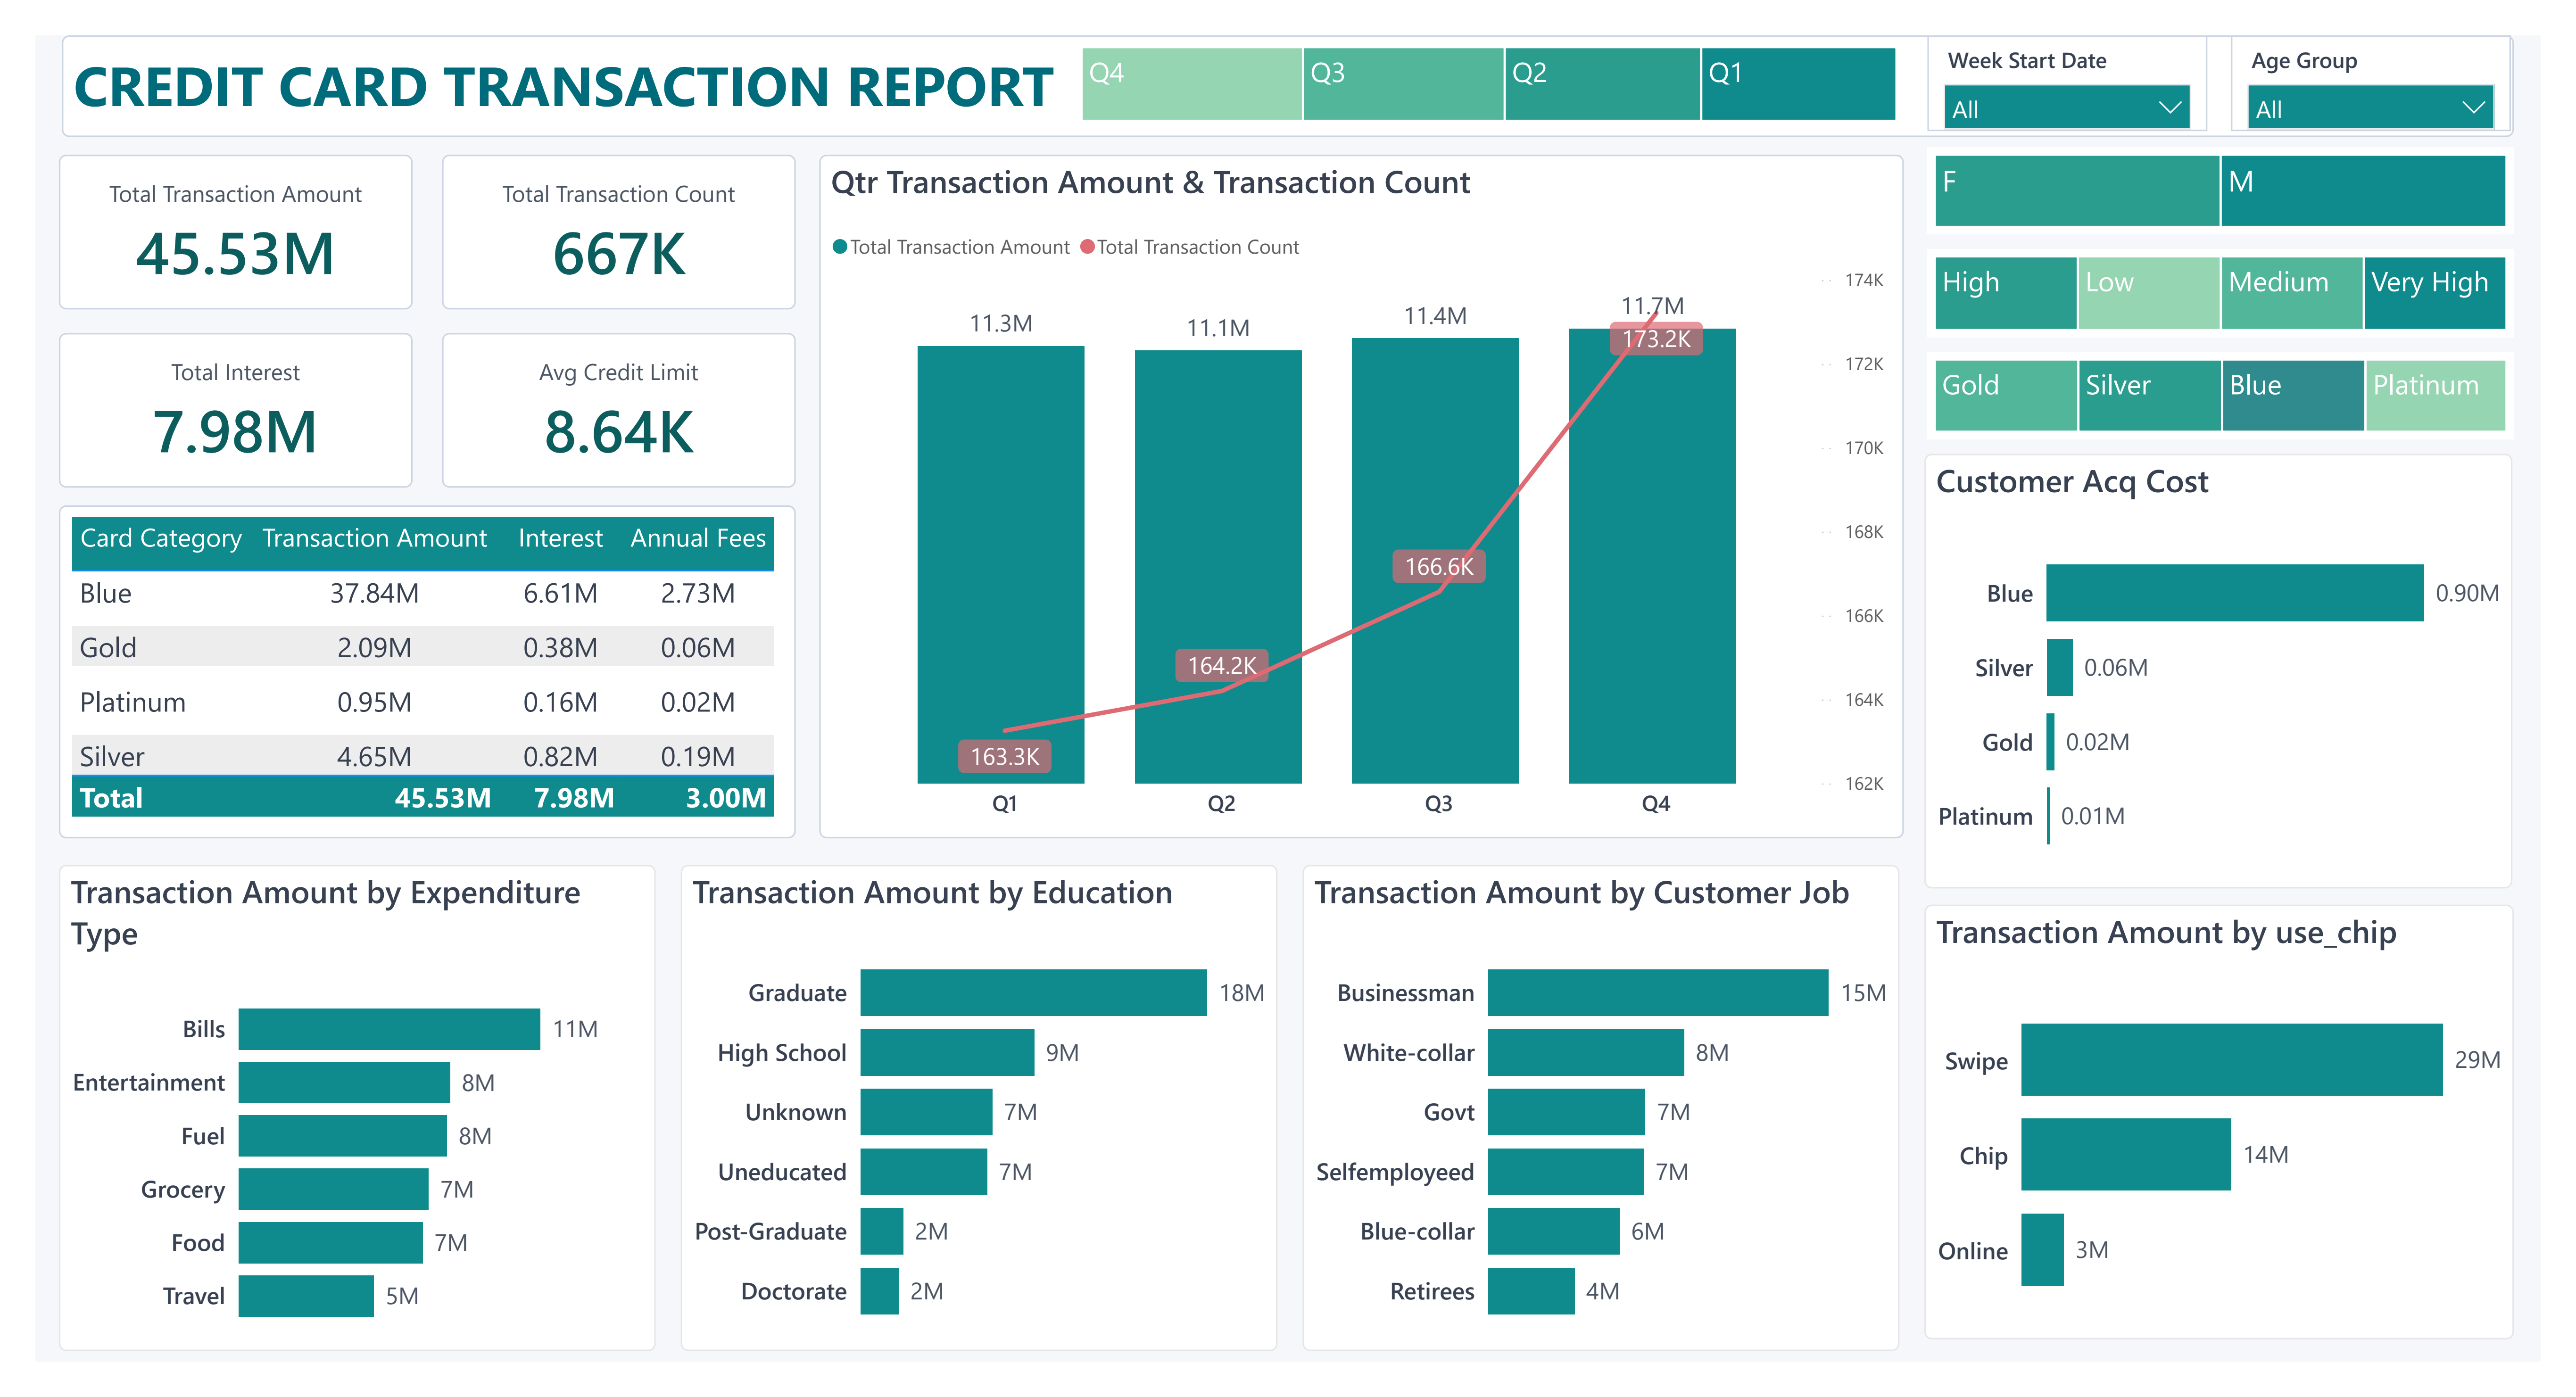

The page's visual inventory and layout, read from the dashboard file:
{"tool":"powerbi","page":{"name":"Transaction Report","canvas":[1700,900],"ordinal":0},"visuals":[{"type":"textbox","box":[17.7,0,1664.5,69.4],"z":0},{"type":"cardVisual","fields":{"Data":["_Measures.Total Transaction Amount"]},"box":[16.1,80.6,240,105],"z":1000},{"type":"cardVisual","fields":{"Data":["_Measures.Total Interest"]},"box":[16.1,201.6,240,105],"z":2000},{"type":"lineClusteredColumnComboChart","title":"Qtr Transaction Amount & Transaction Count","fields":{"Category":["cc_details.qtr"],"Y2":["_Measures.Total Transaction Count"],"Y":["_Measures.Total Transaction Amount"]},"box":[532.3,80.6,735.5,464.5],"z":3000},{"type":"clusteredBarChart","title":"Transaction Amount by Expenditure Type","fields":{"Category":["cc_details.exp_type"],"Y":["_Measures.Total Transaction Amount"]},"box":[16.1,562.9,405,330.3],"z":4000},{"type":"clusteredBarChart","title":"Transaction Amount by Education","fields":{"Category":["customer_details.education_level"],"Y":["_Measures.Total Transaction Amount"]},"box":[438.2,563,405,330],"z":5000},{"type":"clusteredBarChart","title":"Customer Acq Cost","fields":{"Y":["Sum(cc_details.customer_acq_cost)"],"Category":["cc_details.card_category"]},"box":[1282.3,283.9,398.4,295.2],"z":6000},{"type":"clusteredBarChart","title":"Transaction Amount by Customer Job","fields":{"Category":["customer_details.customer_job"],"Y":["_Measures.Total Transaction Amount"]},"box":[860.2,563,405,330],"z":7000},{"type":"treemap","title":"Card Category","fields":{"Group":["cc_details.card_category"],"Values":["Avg(cc_details.client_num)"]},"box":[1283.9,214.5,398.4,59.7],"z":8000},{"type":"treemap","title":"Income Group","fields":{"Values":["Avg(cc_details.client_num)"],"Group":["customer_details.Income Group"]},"box":[1283.9,145.2,398.4,59.7],"z":9000},{"type":"treemap","title":"Gender","fields":{"Group":["customer_details.gender"],"Values":["Avg(customer_details.client_num)"]},"box":[1283.9,75.8,398.4,59.7],"z":10000},{"type":"slicer","fields":{"Values":["cc_details.week_start_date"]},"box":[1283.8,0,190,64.5],"z":11000},{"type":"treemap","fields":{"Group":["cc_details.qtr"],"Values":["Avg(cc_details.client_num)"]},"box":[704.8,3.2,562.9,59.7],"z":12000},{"type":"cardVisual","fields":{"Data":["_Measures.Total Transaction Count"]},"box":[275.8,80.6,240,105],"z":13000},{"type":"clusteredBarChart","title":"Transaction Amount by use_chip","fields":{"Category":["cc_details.use_chip"],"Y":["_Measures.Total Transaction Amount"]},"box":[1282.3,590.3,400,295.2],"z":14000},{"type":"tableEx","title":"Performance by Card Category","fields":{"Values":["cc_details.card_category","_Measures.Total Transaction Amount","_Measures.Total Interest","Sum(cc_details.annual_fees)"]},"box":[16.1,319.4,500,225.8],"z":15000},{"type":"cardVisual","fields":{"Data":["_Measures.Avg Credit Limit"]},"box":[275.8,201.6,240,105],"z":16000},{"type":"slicer","fields":{"Values":["customer_details.Age Group"]},"box":[1490.4,0,190,64.5],"z":18000}]}

Visuals, with their boxes on the page's 1700x900 design canvas (x1, y1, x2, y2). These are canvas units, not pixel positions in the 2576x1397 screenshot, which may show the page scaled, cropped or inside an application window:
textbox: {"x1": 18, "y1": 0, "x2": 1682, "y2": 69}
cardVisual - _Measures.Total Transaction Amount: {"x1": 16, "y1": 81, "x2": 256, "y2": 186}
cardVisual - _Measures.Total Interest: {"x1": 16, "y1": 202, "x2": 256, "y2": 307}
"Qtr Transaction Amount & Transaction Count" lineClusteredColumnComboChart: {"x1": 532, "y1": 81, "x2": 1268, "y2": 545}
"Transaction Amount by Expenditure Type" clusteredBarChart: {"x1": 16, "y1": 563, "x2": 421, "y2": 893}
"Transaction Amount by Education" clusteredBarChart: {"x1": 438, "y1": 563, "x2": 843, "y2": 893}
"Customer Acq Cost" clusteredBarChart: {"x1": 1282, "y1": 284, "x2": 1681, "y2": 579}
"Transaction Amount by Customer Job" clusteredBarChart: {"x1": 860, "y1": 563, "x2": 1265, "y2": 893}
"Card Category" treemap: {"x1": 1284, "y1": 214, "x2": 1682, "y2": 274}
"Income Group" treemap: {"x1": 1284, "y1": 145, "x2": 1682, "y2": 205}
"Gender" treemap: {"x1": 1284, "y1": 76, "x2": 1682, "y2": 136}
slicer - cc_details.week_start_date: {"x1": 1284, "y1": 0, "x2": 1474, "y2": 64}
treemap - cc_details.qtr x Avg(cc_details.client_num): {"x1": 705, "y1": 3, "x2": 1268, "y2": 63}
cardVisual - _Measures.Total Transaction Count: {"x1": 276, "y1": 81, "x2": 516, "y2": 186}
"Transaction Amount by use_chip" clusteredBarChart: {"x1": 1282, "y1": 590, "x2": 1682, "y2": 886}
"Performance by Card Category" tableEx: {"x1": 16, "y1": 319, "x2": 516, "y2": 545}
cardVisual - _Measures.Avg Credit Limit: {"x1": 276, "y1": 202, "x2": 516, "y2": 307}
slicer - customer_details.Age Group: {"x1": 1490, "y1": 0, "x2": 1680, "y2": 64}
